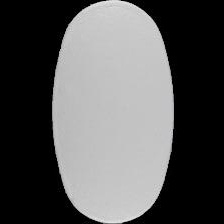69189-3951: (0, 0, 224, 224)
